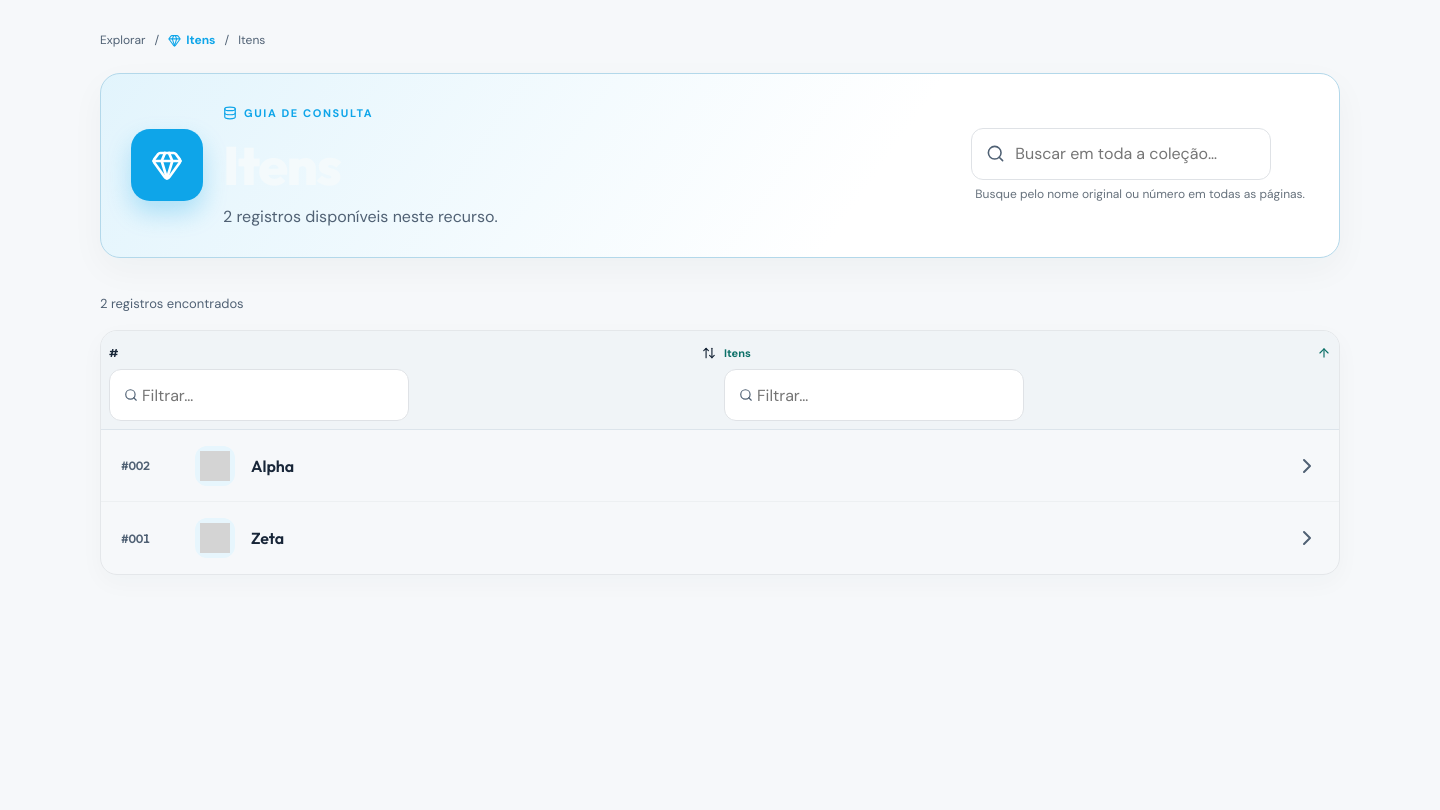
Test: ResourceListPage column controls › sorts ordinary collections and clears filters with no matches
The width and height of the screenshot is (1440, 810).
Expected: the text "Alpha" is shown, top-left (251, 456), bottom-right (294, 476)
Type "missing" into the field named "Filtrar Itens" at (881,396), box top-left (753, 385), bottom-right (1009, 406)
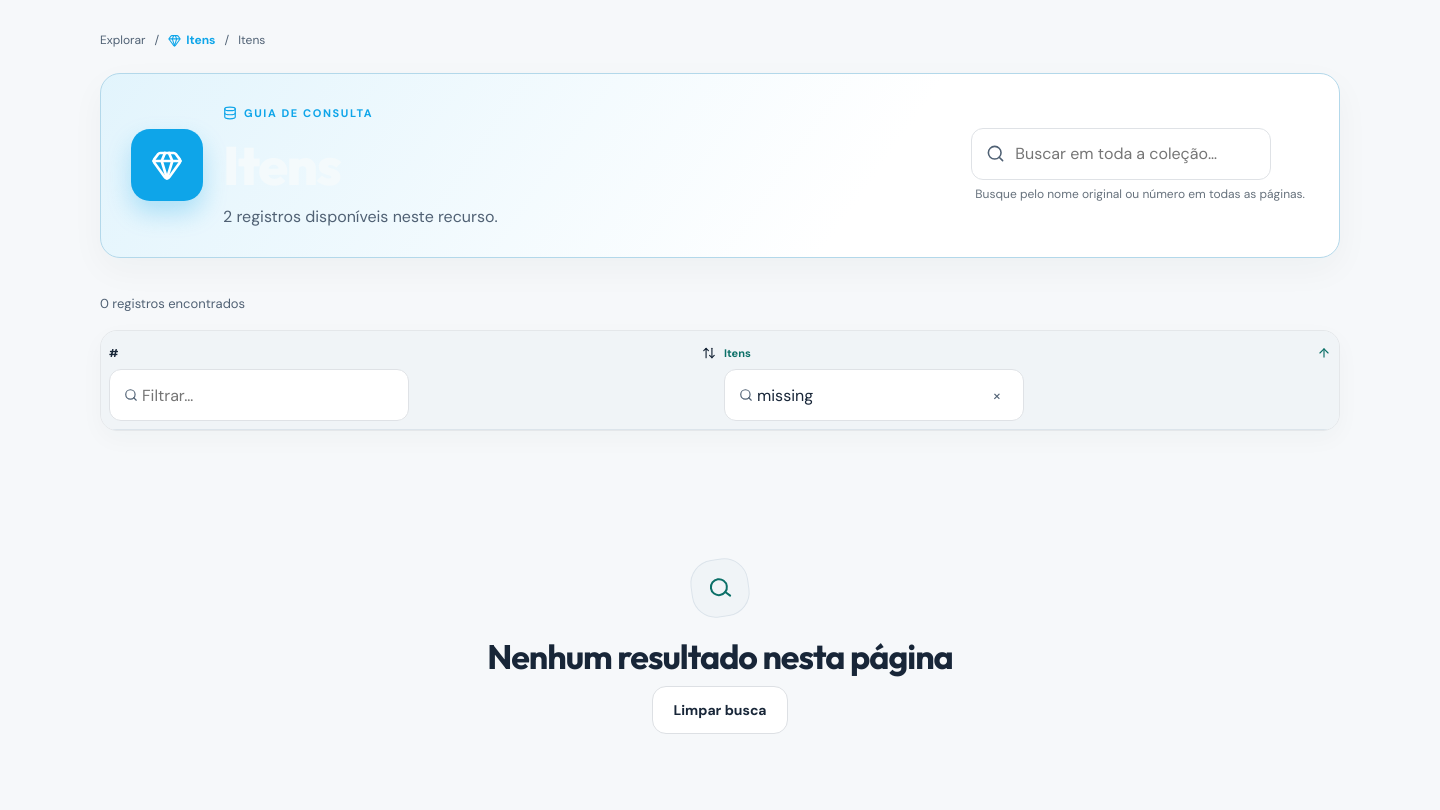
Click the button "Limpar busca" at (720,710), box top-left (652, 686), bottom-right (788, 734)
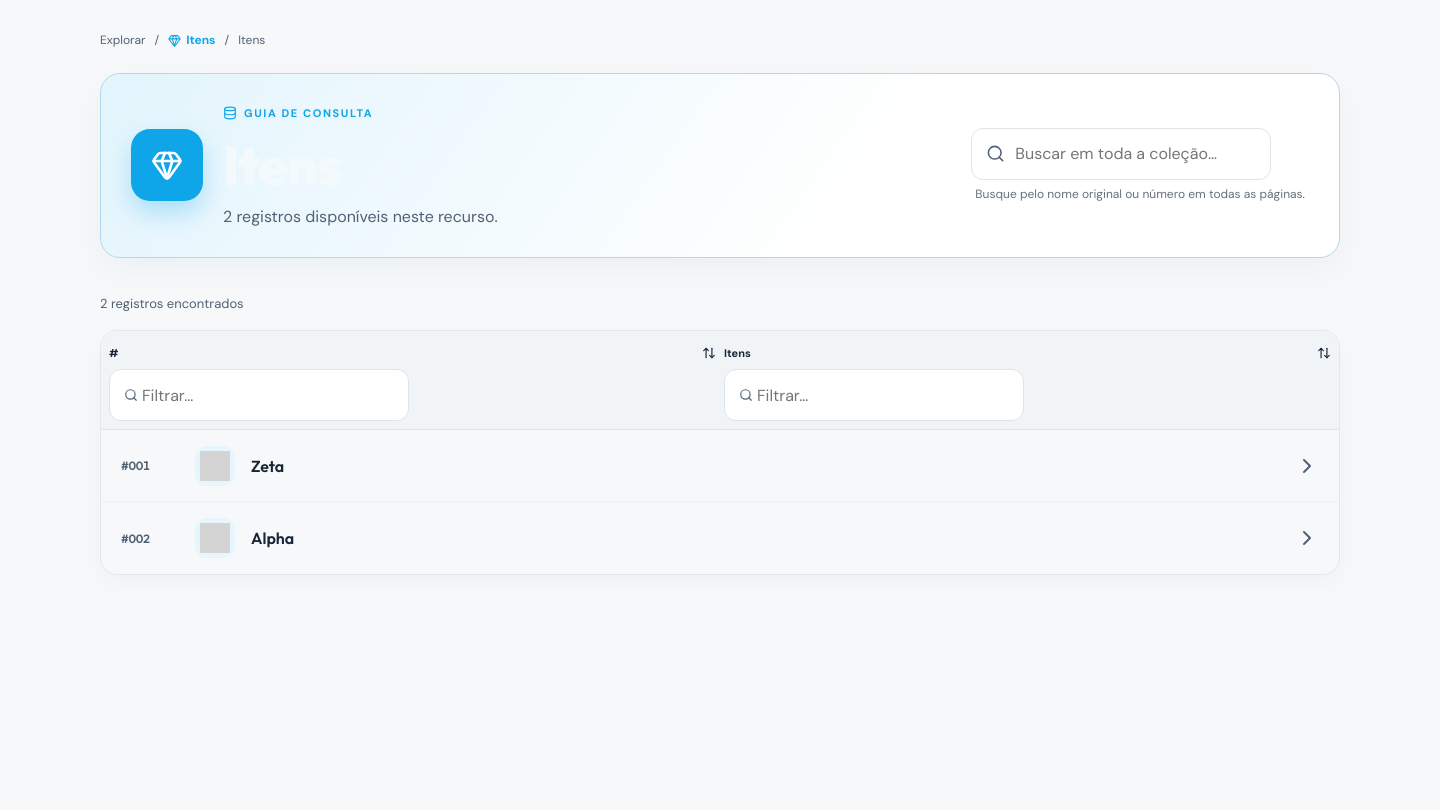
Expected: the text "Zeta" is shown, top-left (251, 456), bottom-right (284, 476)
